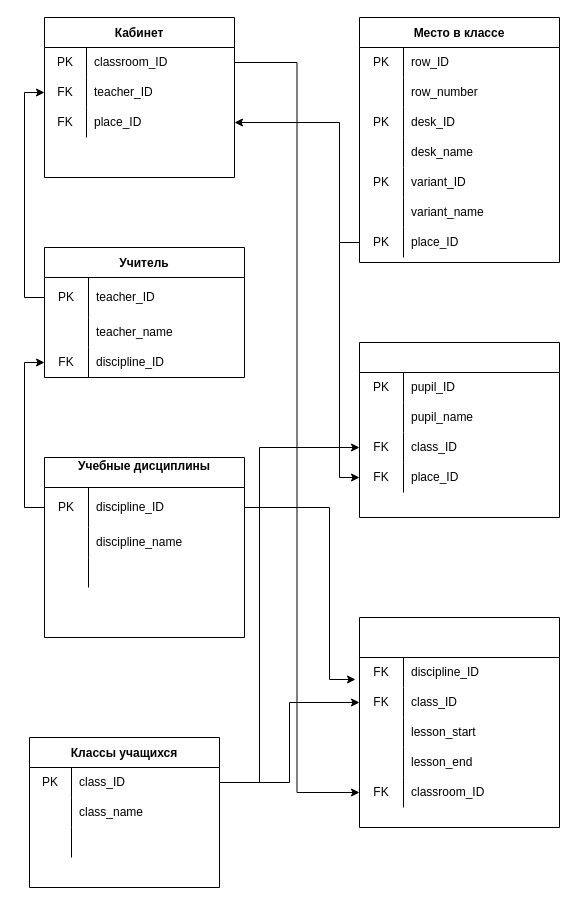
This 577x905 diagram has some shape labels left out. The box of each missing label's shape, as (x1, y1, x2, y2) in pixels:
Расписание уроков: (358, 616, 560, 828)
Ученик: (358, 342, 560, 518)
